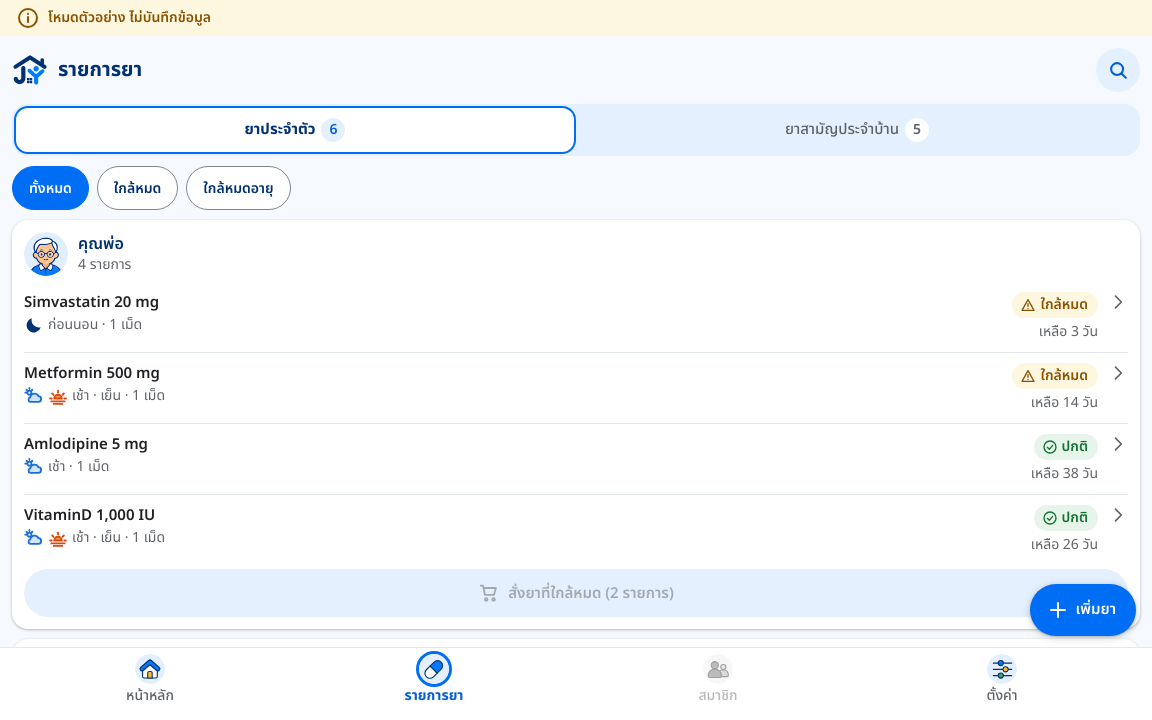
Test case: chips and search button › "no match" keeps both, so the filter can be cleared
This screenshot has width=1152, height=720.
Click the button named "ค้นหายา". click: (1118, 70)
box: [1096,48,1140,92]
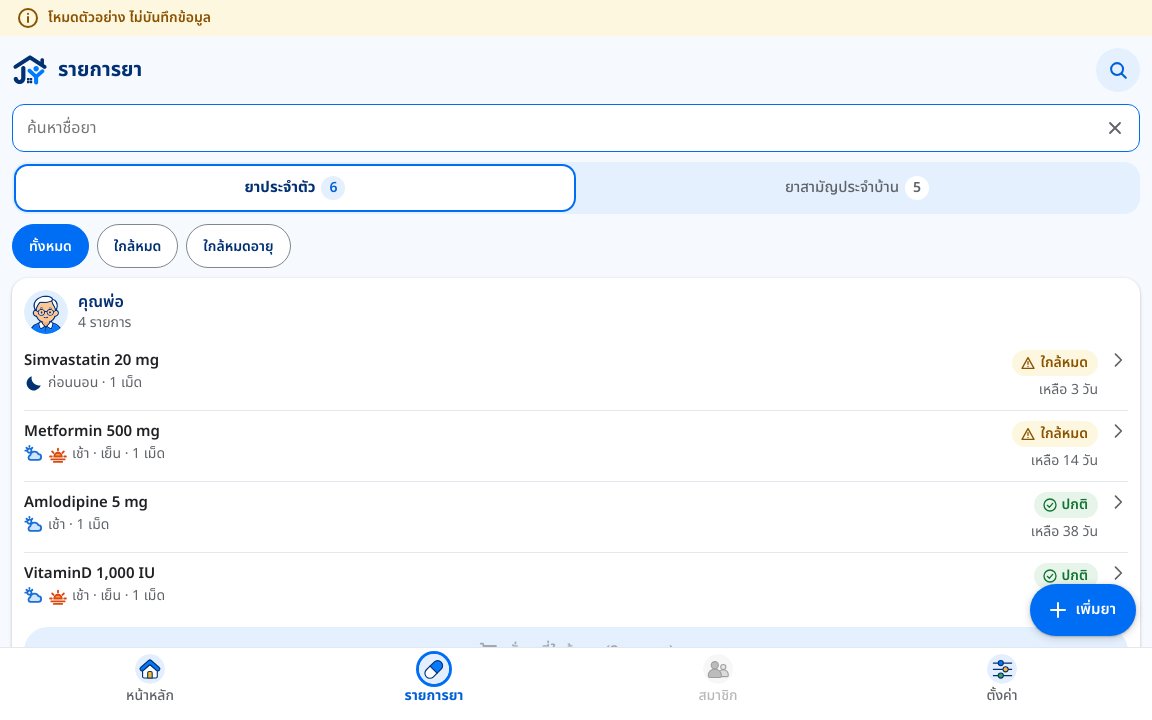
Type "zzz" into the search field with placeholder "ค้นหาชื่อยา". click: (560, 128)
box: [27,106,1093,150]
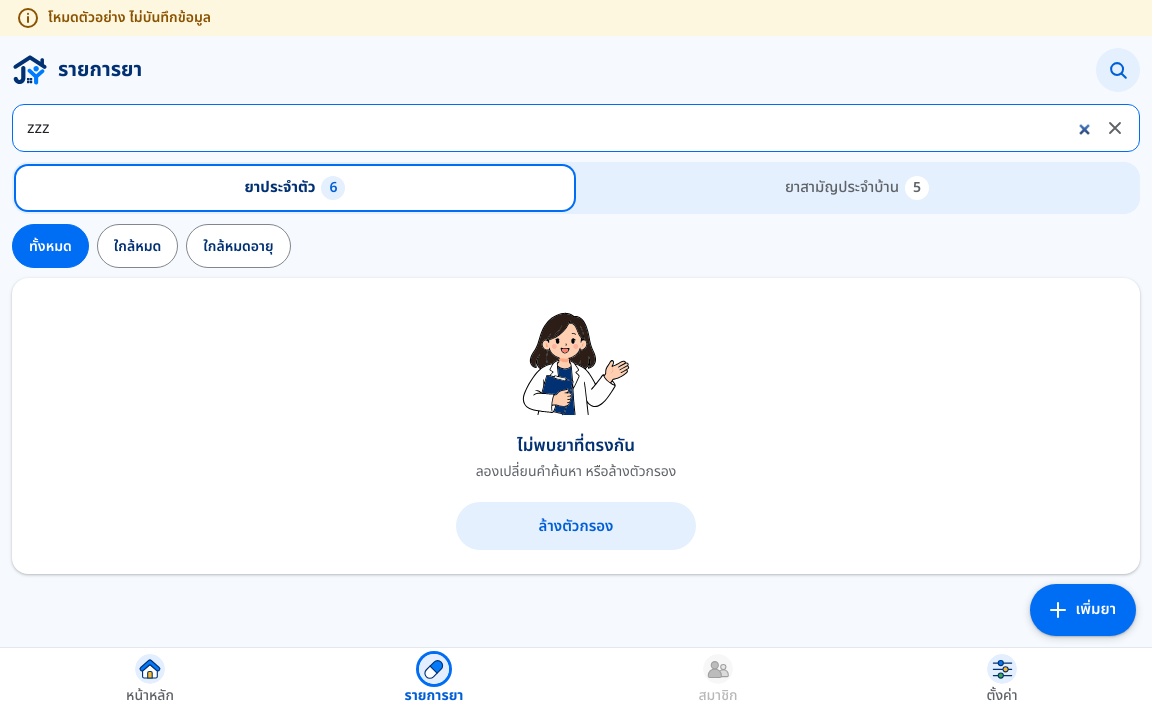
Expected: the button named "ค้นหายา" is shown, [1096,48,1140,92]
Result: the heading "ไม่พบยาที่ตรงกัน" is shown at [517,434,635,458]
